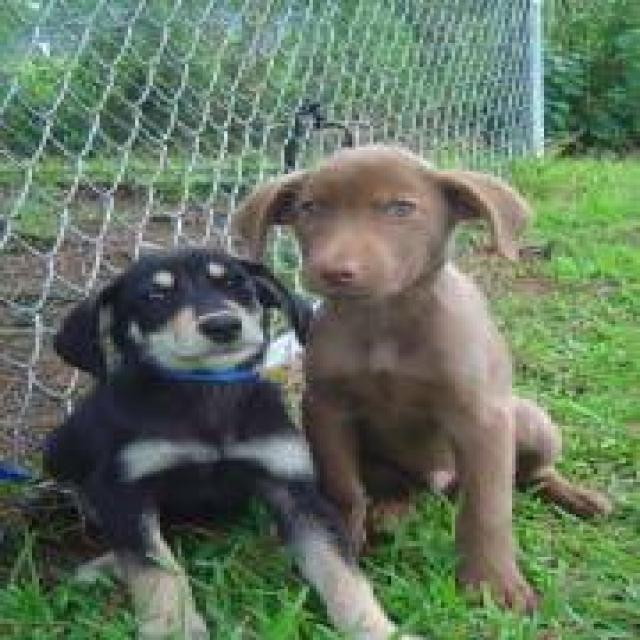dog: (224, 139, 612, 619), (39, 244, 427, 637)
